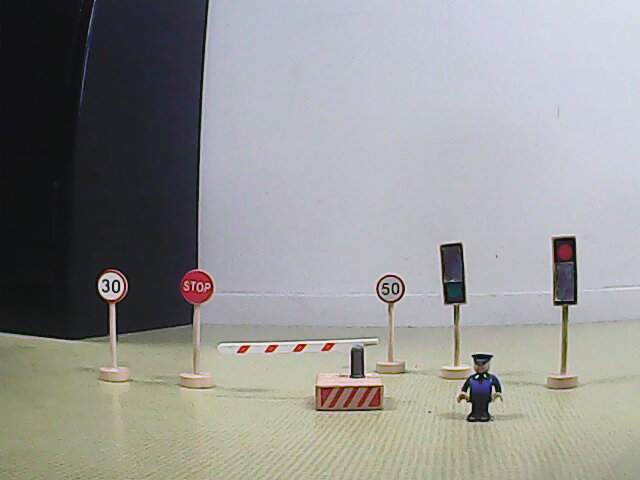barrier: (216, 335, 384, 412)
green_traffic_sign: (440, 243, 466, 305)
person: (455, 353, 506, 423)
red_traffic_sign: (553, 236, 576, 307)
sign_30: (96, 269, 127, 301)
sign_50: (375, 274, 405, 304)
stop_sign: (178, 270, 214, 304)
